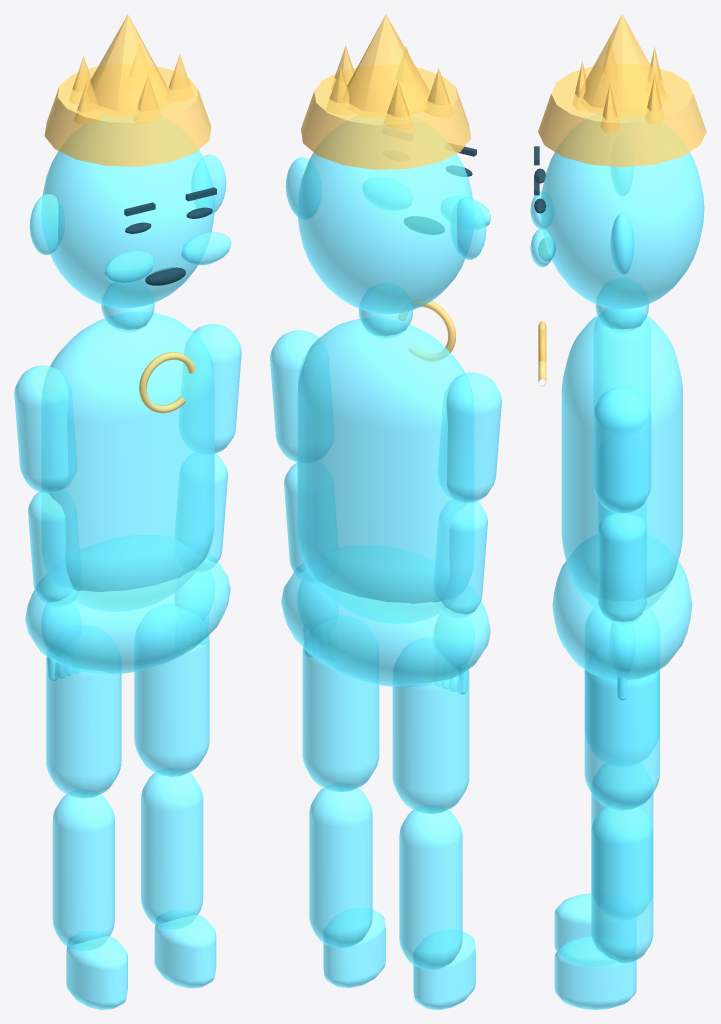
File: theodore.glb
3 renders of one model, left to right at view 1: azimuth 30°, elevation 25°; view 2: azimuth 150°, elevation 25°; view 3: azimuth 270°, elevation 25°, orthographic.
Visible parts, largest first — view 1: Torso, HeadMesh, Pelvis, CrownBand, RightThigh, LeftThigh, LeftShin, RightShin, LeftUpperArm, RightUpperArm, LeftForeArm, CrownLotus (+16 smaller); view 2: Torso, HeadMesh, Pelvis, CrownBand, RightThigh, LeftThigh, RightShin, LeftShin, RightUpperArm, LeftUpperArm, LeftForeArm, CrownLotus (+15 smaller); view 3: Torso, HeadMesh, Pelvis, CrownBand, RightThigh, RightShin, LeftShin, LeftThigh, RightUpperArm, RightFoot, RightForeArm, CrownLotus (+11 smaller).
Boxes of the visible parts, x1=… form: Torso: x1=42, y1=312, x2=214, y2=611; HeadMesh: x1=41, y1=114, x2=214, y2=308; Pelvis: x1=25, y1=535, x2=230, y2=673; CrownBand: x1=44, y1=64, x2=211, y2=166; RightThigh: x1=134, y1=604, x2=209, y2=776; LeftThigh: x1=46, y1=625, x2=121, y2=798; LeftShin: x1=52, y1=789, x2=114, y2=950; RightShin: x1=141, y1=768, x2=203, y2=929; LeftUpperArm: x1=14, y1=365, x2=76, y2=493; RightUpperArm: x1=179, y1=324, x2=241, y2=454; LeftForeArm: x1=28, y1=490, x2=80, y2=606; CrownLotus: x1=87, y1=14, x2=171, y2=116; Torso: x1=297, y1=318, x2=473, y2=623; HeadMesh: x1=297, y1=116, x2=473, y2=314; Pelvis: x1=281, y1=546, x2=490, y2=686; CrownBand: x1=301, y1=65, x2=470, y2=169; RightThigh: x1=302, y1=615, x2=379, y2=791; LeftThigh: x1=392, y1=637, x2=469, y2=813; RightShin: x1=309, y1=783, x2=372, y2=948; LeftShin: x1=399, y1=805, x2=462, y2=969; RightUpperArm: x1=270, y1=330, x2=333, y2=462; LeftUpperArm: x1=438, y1=372, x2=501, y2=502; LeftForeArm: x1=434, y1=500, x2=487, y2=618; CrownLotus: x1=343, y1=14, x2=429, y2=117; Torso: x1=561, y1=309, x2=682, y2=610; HeadMesh: x1=540, y1=114, x2=704, y2=309; Pelvis: x1=552, y1=534, x2=692, y2=681; CrownBand: x1=538, y1=64, x2=706, y2=167; RightThigh: x1=584, y1=640, x2=659, y2=810; RightShin: x1=591, y1=802, x2=653, y2=963; LeftShin: x1=591, y1=763, x2=653, y2=919; LeftThigh: x1=584, y1=608, x2=659, y2=766; RightUpperArm: x1=593, y1=386, x2=651, y2=513; RightFoot: x1=554, y1=936, x2=636, y2=1009; RightForeArm: x1=598, y1=511, x2=646, y2=624; CrownLotus: x1=579, y1=14, x2=667, y2=117.
Bounding box in the file's own units: 1.14 × 4.83 × 0.7946.
